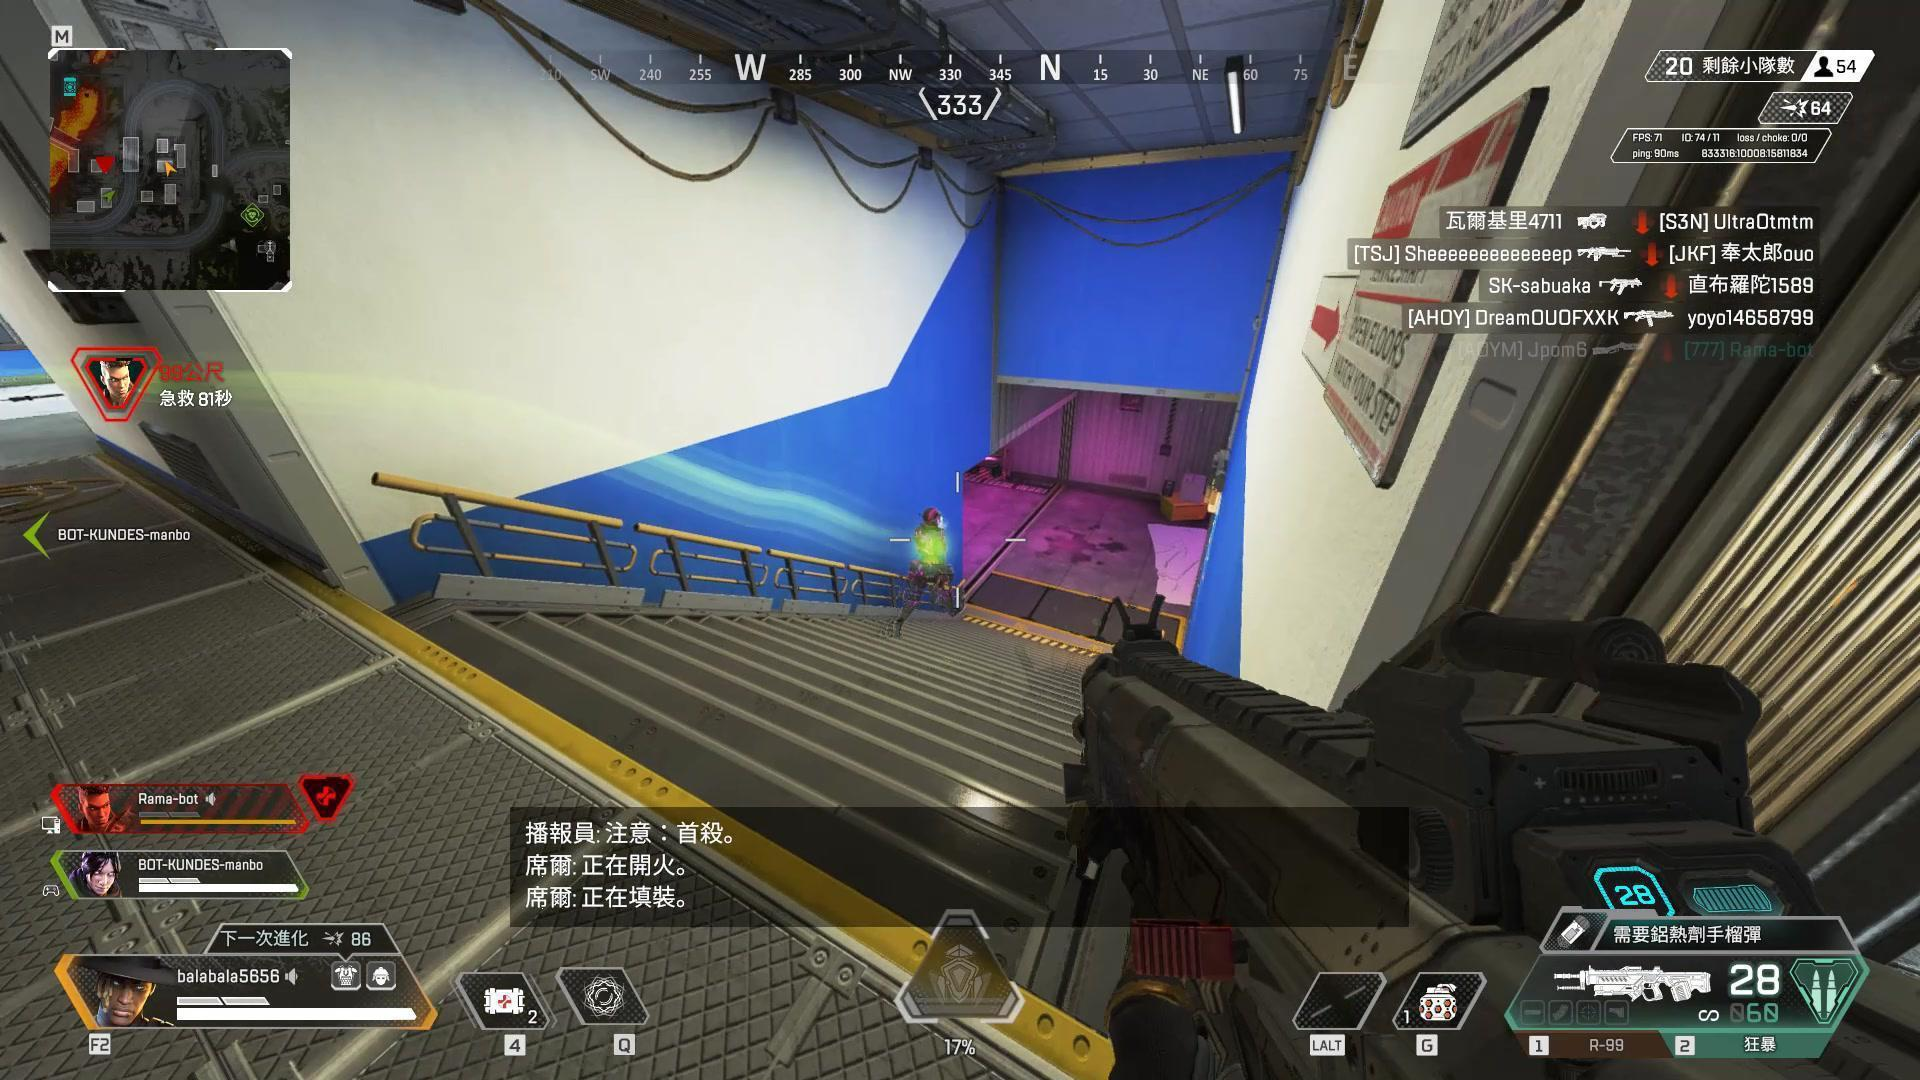avatar: (885, 504, 967, 644)
object: (915, 530, 949, 565)
